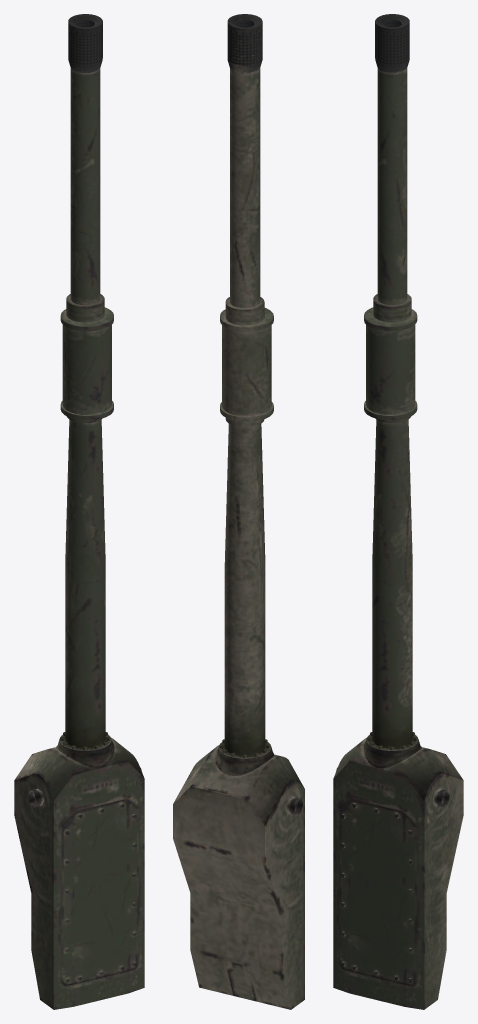
The model's file is Gun_03.glb.
The picture shows the model from 3 angles, left to right: view 1: azimuth 30°, elevation 25°; view 2: azimuth 150°, elevation 25°; view 3: azimuth 330°, elevation 25°; orthographic projection.
Visible parts, largest first — view 1: set_0_group_0; view 2: set_0_group_0; view 3: set_0_group_0.
Boxes of the visible parts, x1,y1,x2,y2 form: set_0_group_0: [14, 14, 144, 1009]; set_0_group_0: [173, 14, 304, 1009]; set_0_group_0: [333, 14, 463, 1009].
Size of the model in its own units: 0.7134 by 6.19 by 0.4946.
1 material, 1 textured.
